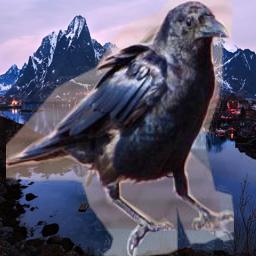Crow: (6, 0, 234, 256)
Woodpecker: (82, 15, 206, 191)
